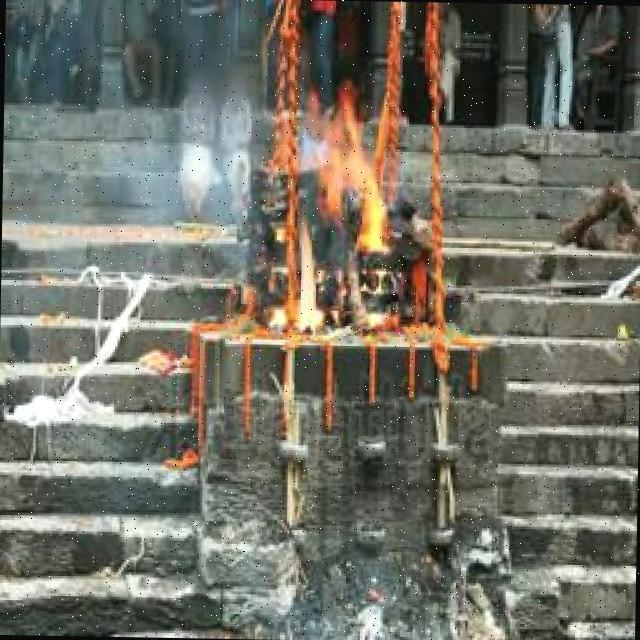Fire: (281, 85, 387, 335)
